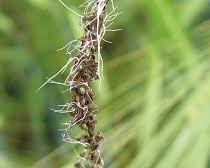Wheat Loose Smut: (61, 17, 112, 156)
